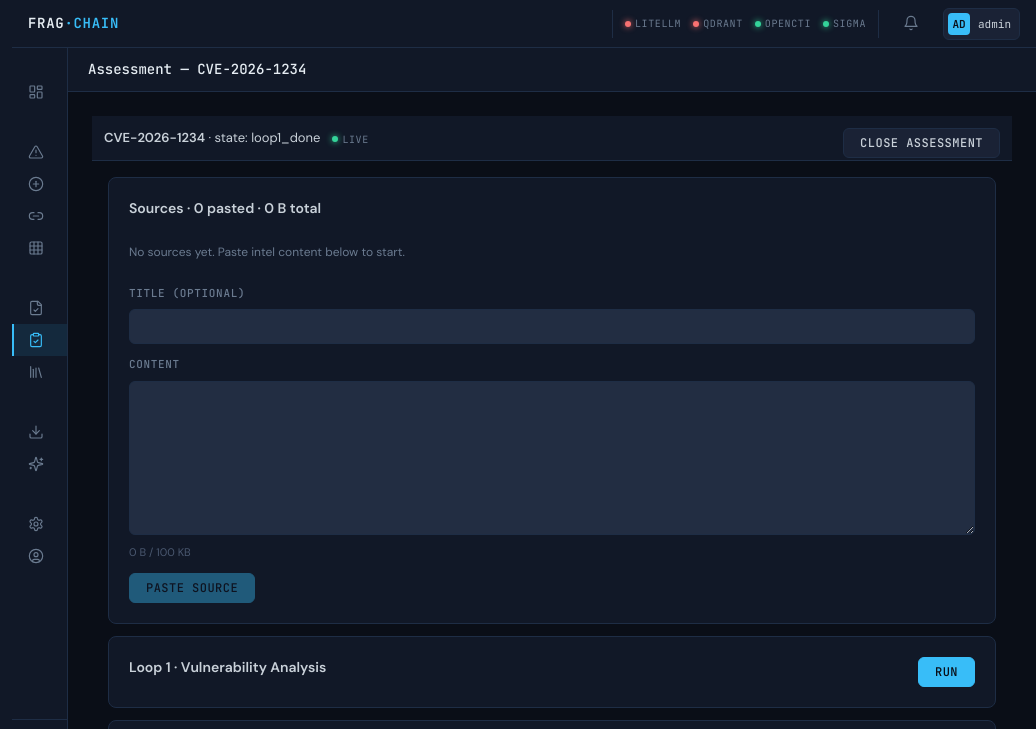
Test: AssessmentWorkspace › toasts when runLoop rejects
Click the button "Run" in the row of "Loop 1 · Vulnerability Analysis".
click(946, 672)  # box [918,656,975,686]
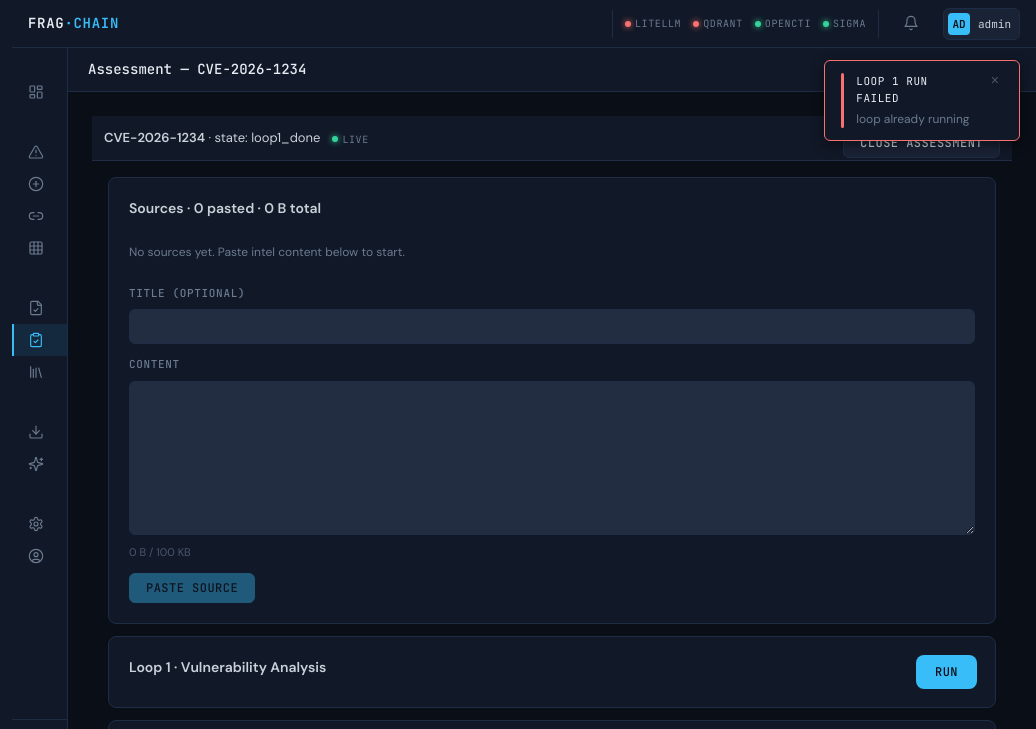
Expected: the text "loop already running" is shown, [856,110,975,128]
